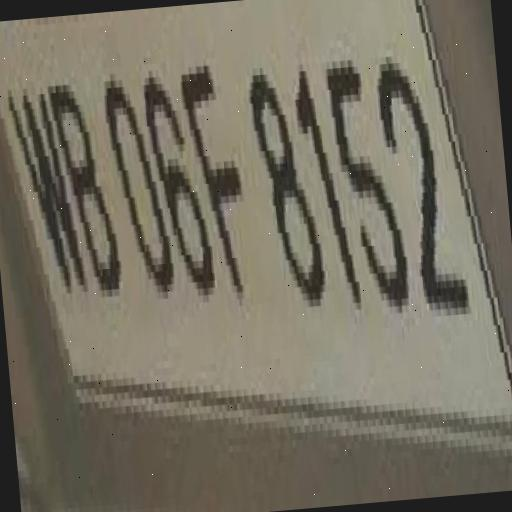number plate: (2, 0, 512, 455)
